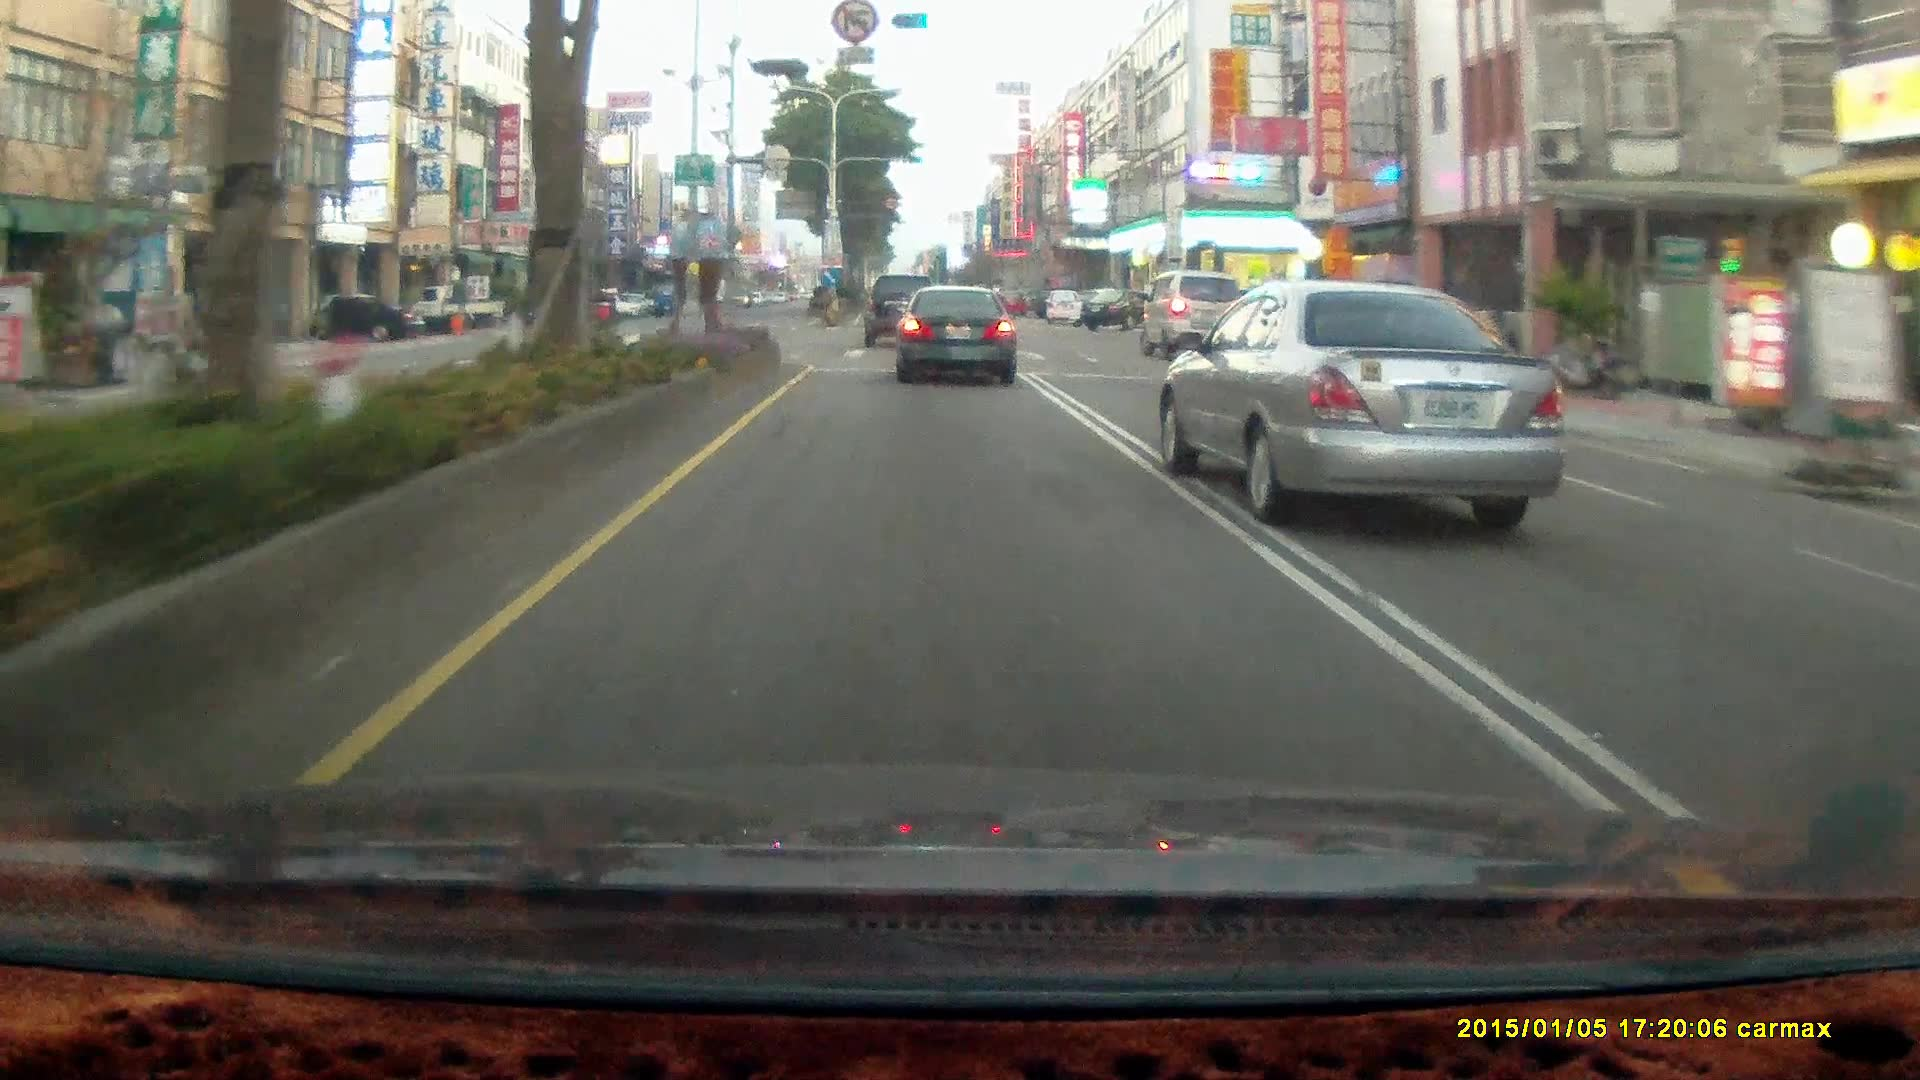vehicle: (1163, 280, 1582, 527), (897, 284, 1021, 389), (891, 284, 1014, 386), (1142, 270, 1247, 363), (1141, 268, 1245, 360), (297, 291, 419, 349), (287, 293, 419, 342), (862, 274, 942, 351), (862, 274, 939, 347), (411, 286, 508, 338), (405, 285, 502, 331), (1083, 287, 1158, 328), (1040, 286, 1083, 320)
